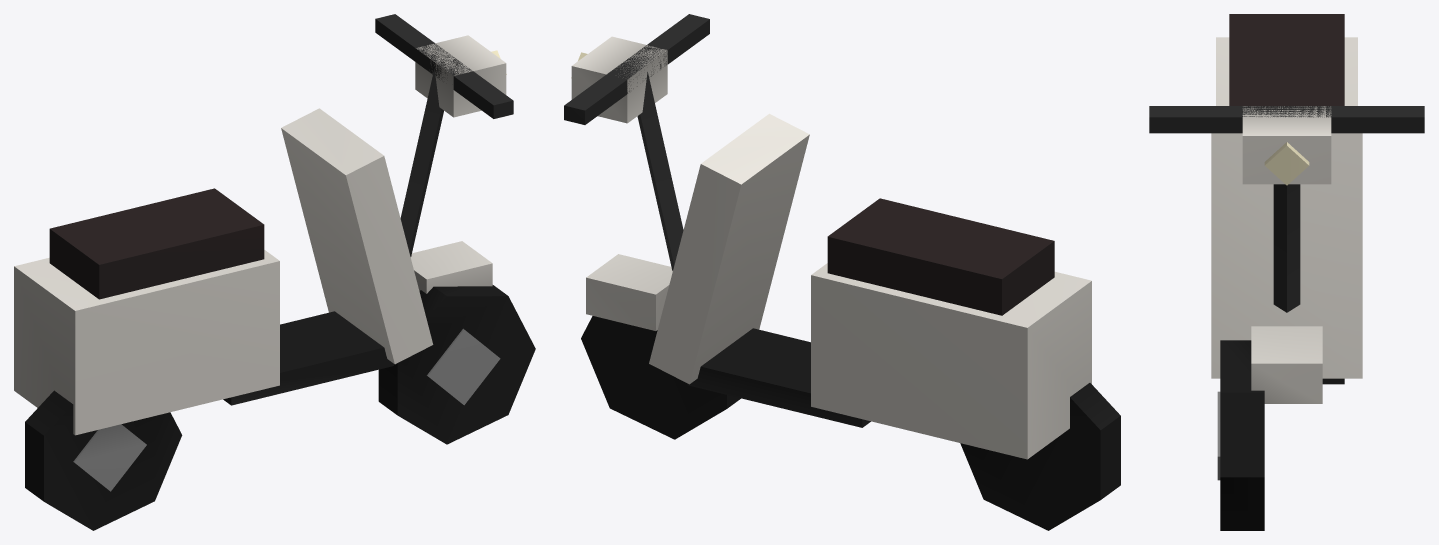
The model's file is scooter_lo-BiYZ1cCI.glb.
The picture shows the model from 3 angles, left to right: view 1: azimuth 30°, elevation 25°; view 2: azimuth 150°, elevation 25°; view 3: azimuth 270°, elevation 25°; orthographic projection. The views are drawn at different scales.
Bounding box in the file's own units: 1.49 × 1.03 × 0.62.
